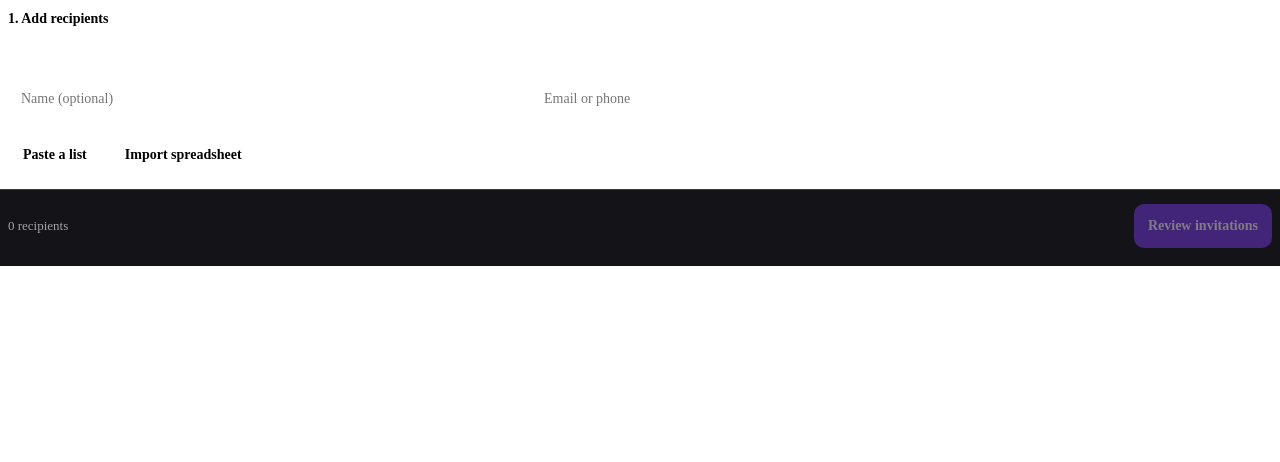
InvitationComposer — adding recipients › types recipients row by row, moving with Enter, and counts what will be sent
The width and height of the screenshot is (1280, 462).
Type "Alice Smith" into the field named "Name for recipient 1" at (266, 98), box [8,76,523,120]
Then press Enter
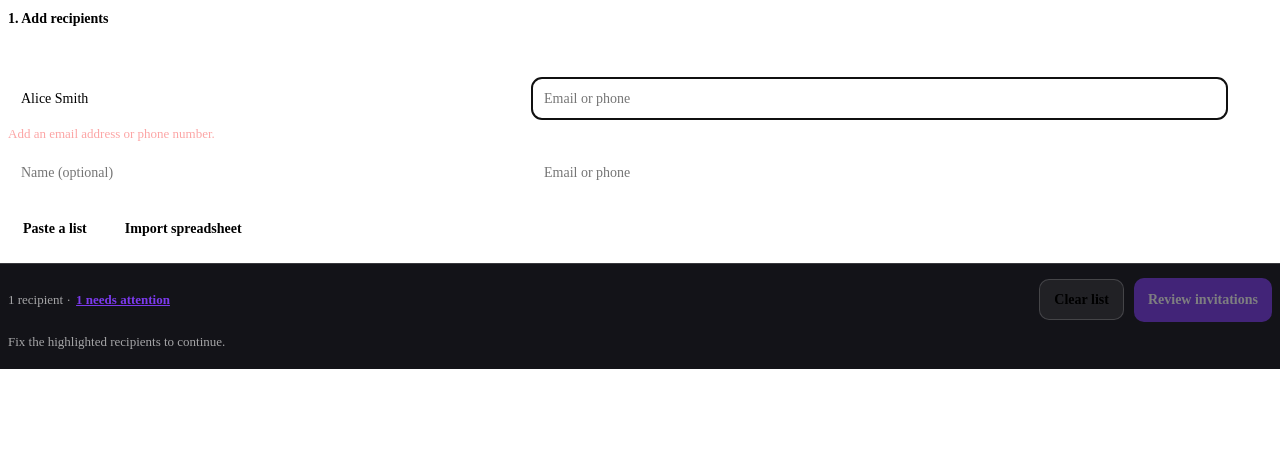
Type "alice@test.internal" into the field named "Email or phone for recipient 1" at (880, 98), box [531,76,1228,120]
Then press Enter
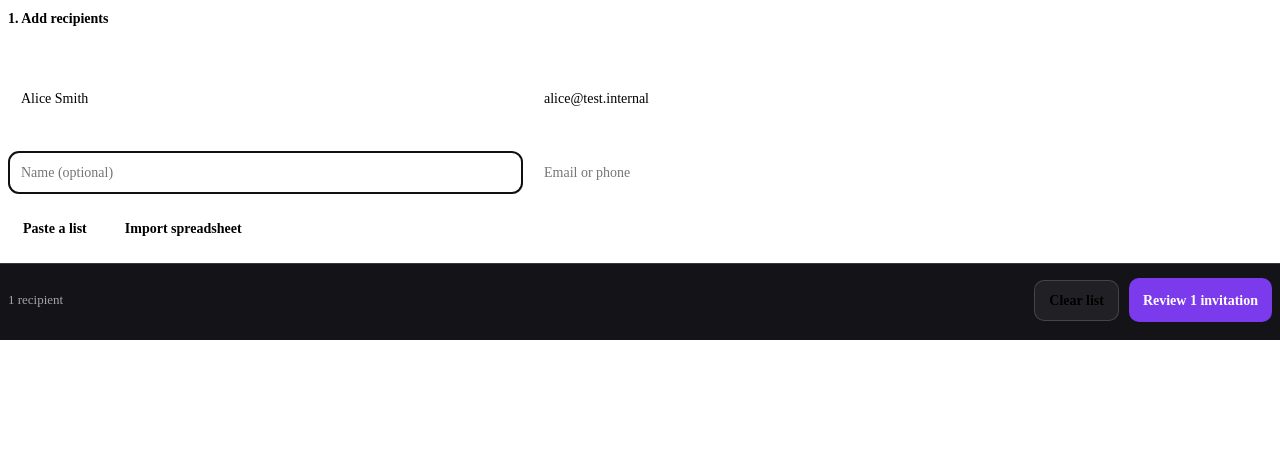
Type "555-123-4567" into the field with placeholder "Email or phone" at (880, 172), box [531,151,1228,194]
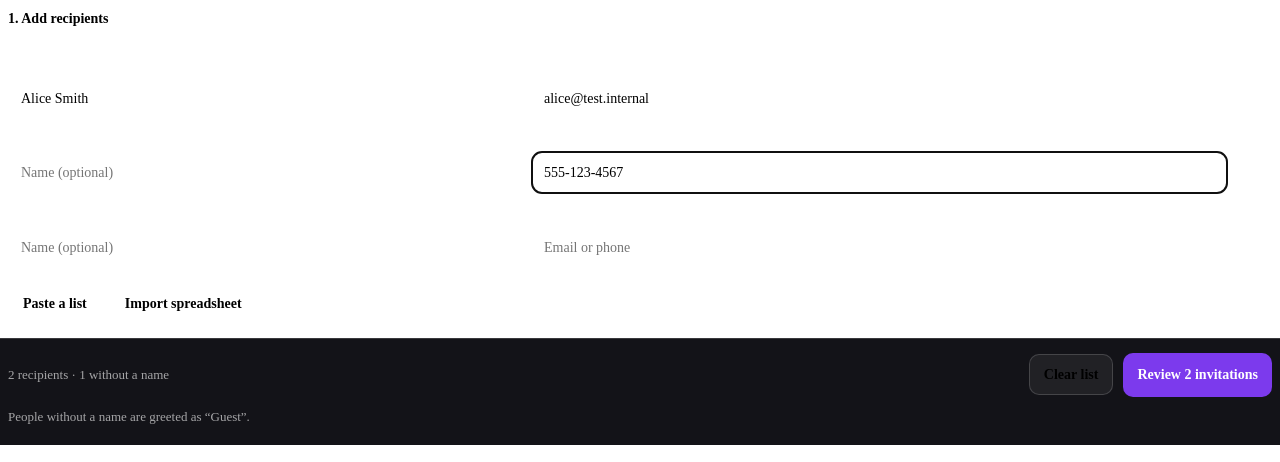
Now the button "Review 2 invitations" is shown, box [1123,352,1272,396]
Now the text "2 recipients · 1 without a name" is shown, box [8,367,169,382]
